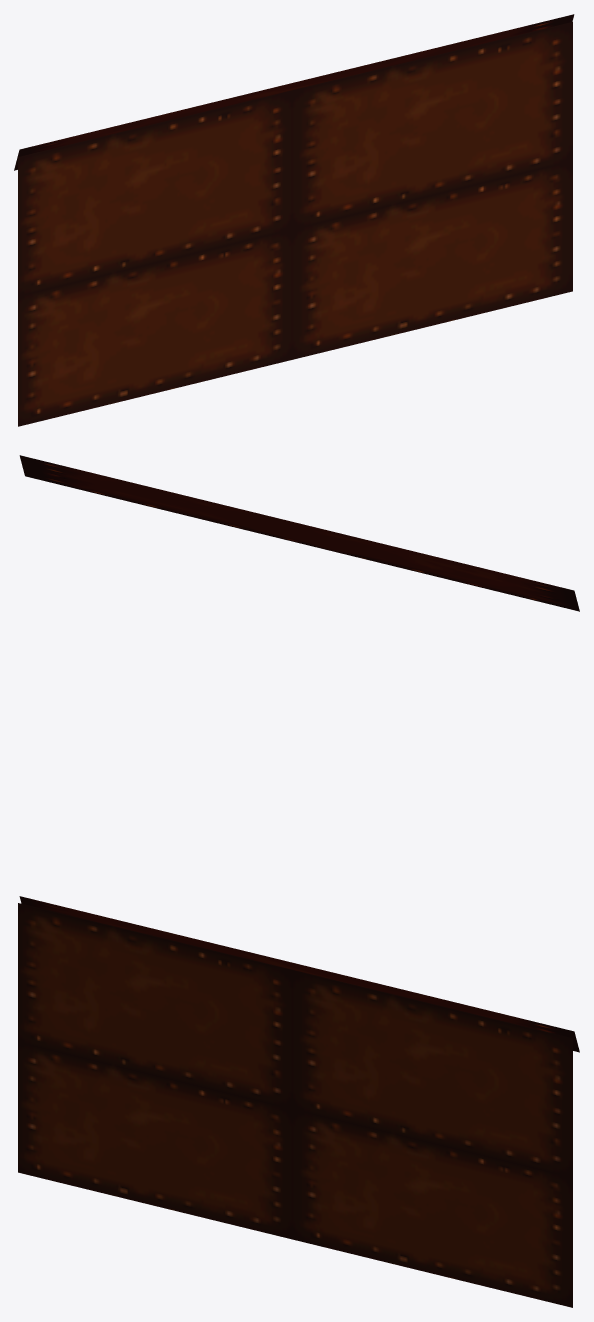
The model's file is Zaun_RostigKlein_912.glb.
The picture shows the model from 3 angles, top to bottom: view 1: azimuth 30°, elevation 25°; view 2: azimuth 150°, elevation 25°; view 3: azimuth 330°, elevation 25°; orthographic projection.
Parts seen in each view (by area): view 1: pPlaneShape183, pPlaneShape184; view 2: pPlaneShape184; view 3: pPlaneShape183, pPlaneShape184.
Boxes of the visible parts, x1=… form: pPlaneShape183: x1=18, y1=22, x2=572, y2=426; pPlaneShape184: x1=14, y1=14, x2=574, y2=170; pPlaneShape184: x1=19, y1=455, x2=579, y2=611; pPlaneShape183: x1=18, y1=903, x2=572, y2=1307; pPlaneShape184: x1=19, y1=896, x2=579, y2=1052.
Bounding box in the file's own units: 0.5011 × 0.2382 × 0.0172.
Materials: 2 (2 with a texture image).
